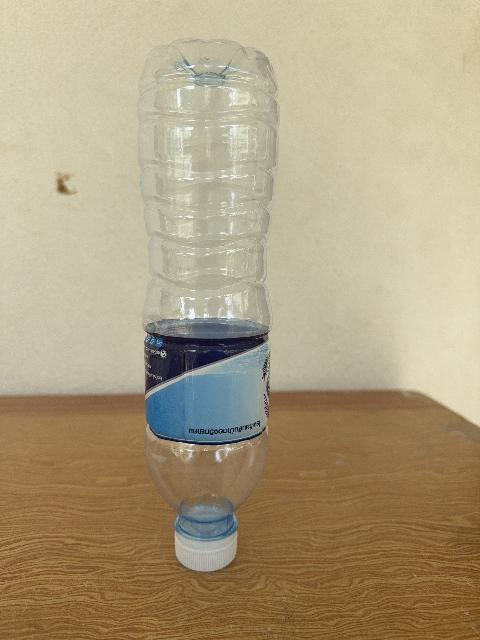bottle: (139, 40, 278, 571)
